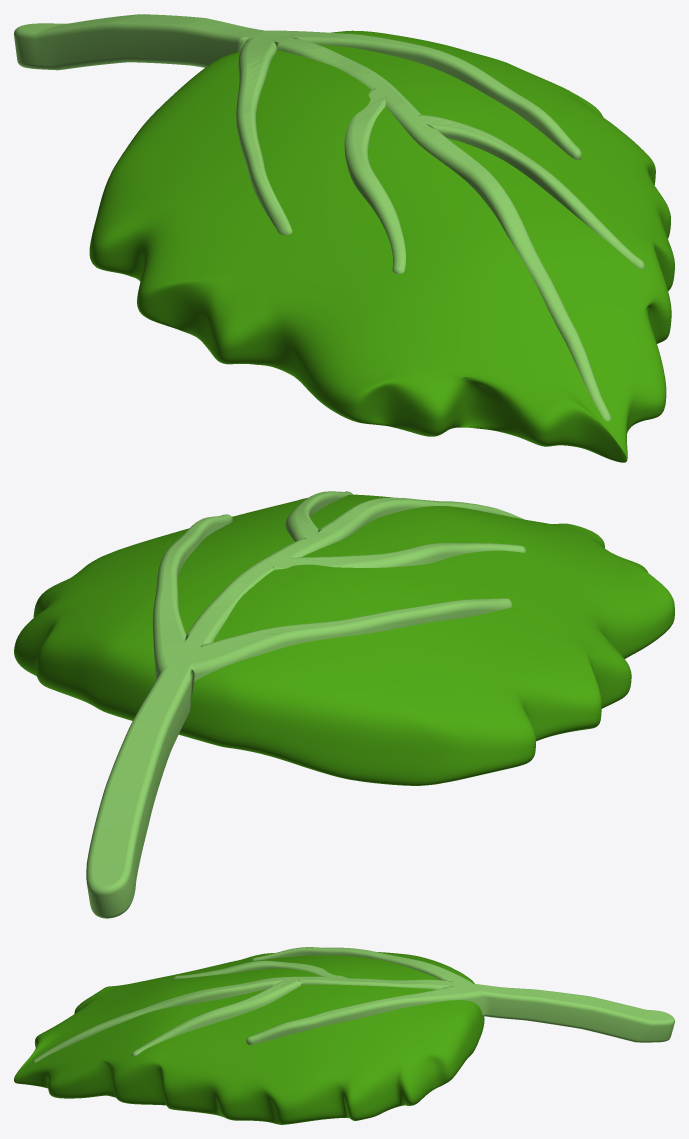
File: yaprak.fbx
3 views of the same model, one above another, from view 1: azimuth 30°, elevation 25°; view 2: azimuth 150°, elevation 25°; view 3: azimuth 270°, elevation 25° (orthographic). The views are drawn at different scales.
Visible parts, largest first — view 1: yaprak; view 2: yaprak; view 3: yaprak.
Part boxes in pixels (left/top/right/bottom): yaprak: left=14, top=14, right=674, bottom=462; yaprak: left=14, top=491, right=674, bottom=918; yaprak: left=14, top=947, right=674, bottom=1124.
Size of the model in its own units: 39.88 by 71.29 by 13.22.
